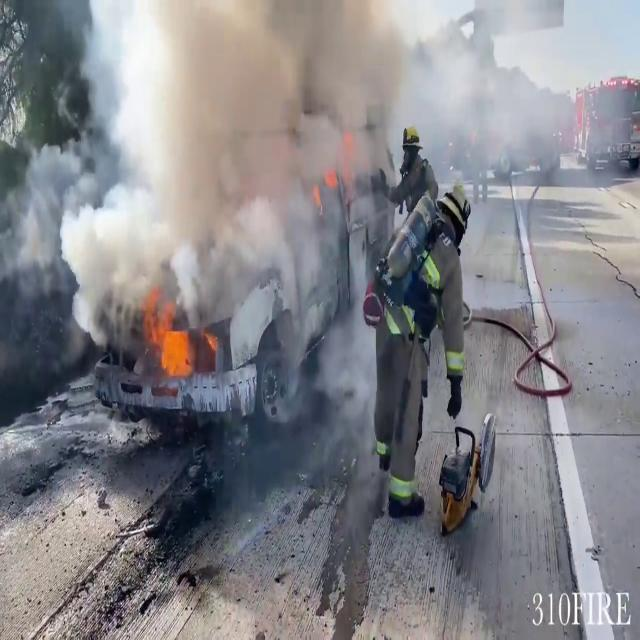Fire: (137, 289, 199, 386)
Smoke: (57, 0, 424, 365)
